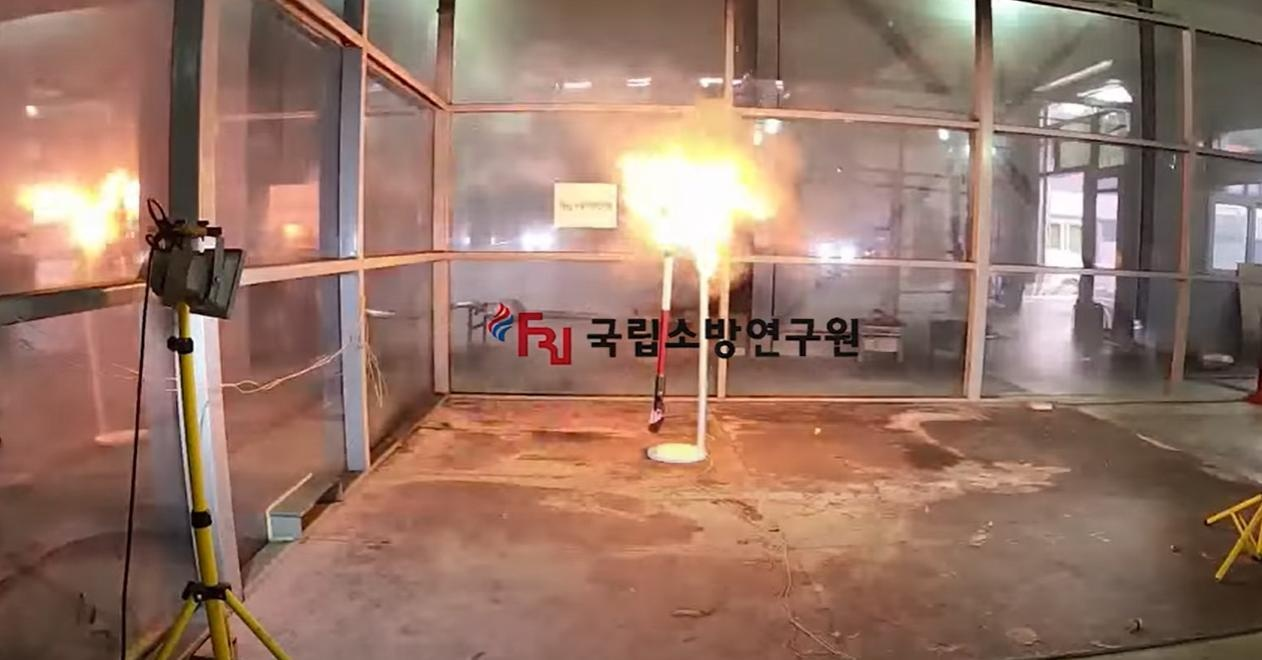fire: (615, 91, 794, 277), (10, 144, 144, 275)
